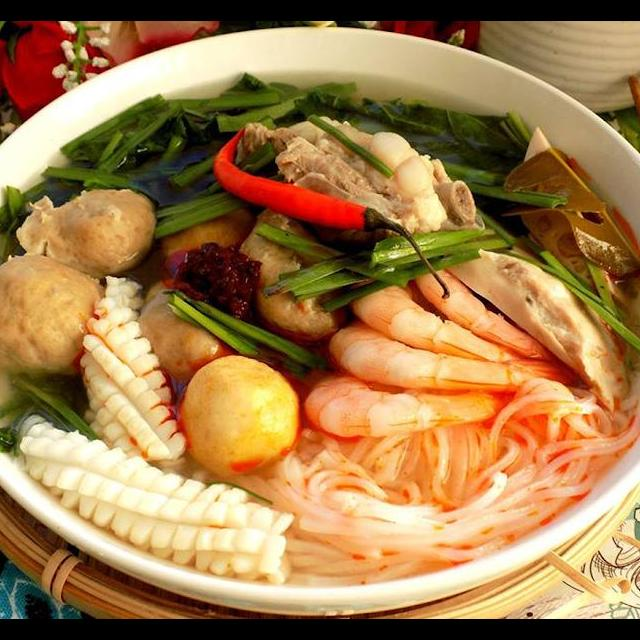bun: (236, 367, 640, 593)
bun hai san: (0, 65, 640, 619)
muc: (10, 411, 298, 591), (72, 270, 190, 473)
thit heo: (230, 108, 490, 264)
tom: (343, 257, 540, 371), (322, 317, 584, 399), (404, 249, 558, 362), (292, 364, 509, 441)
